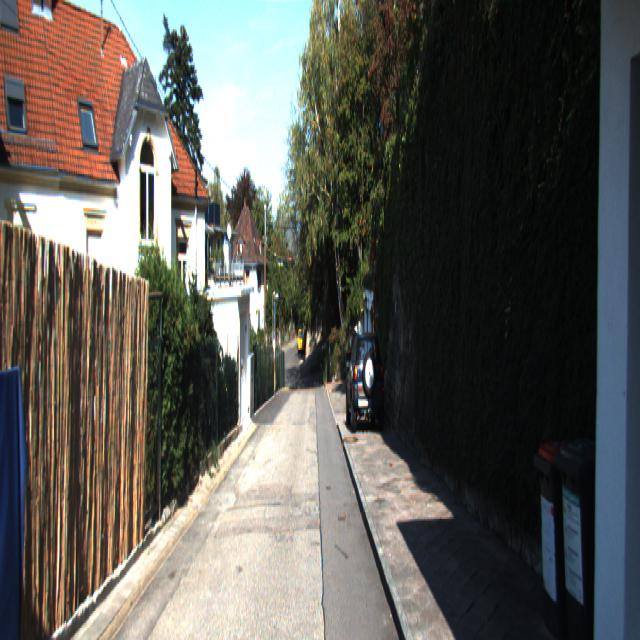Car: (344, 328, 386, 437)
